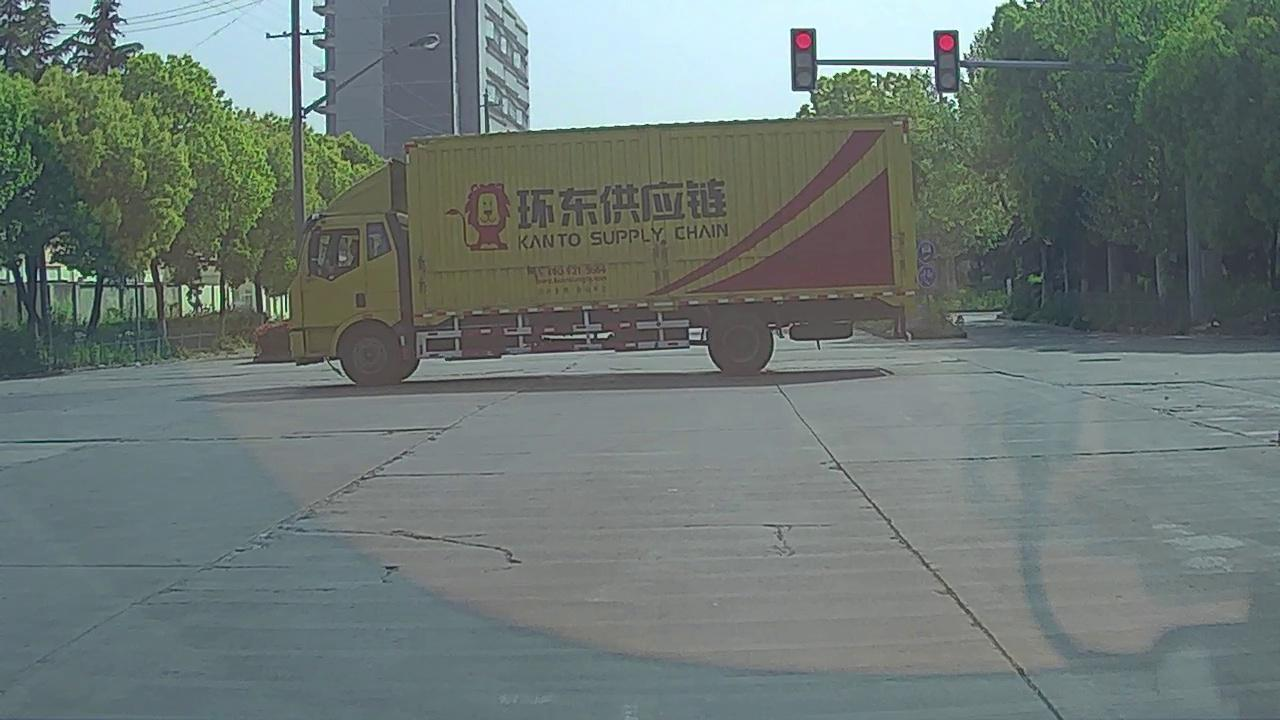traffic_light: (936, 30, 961, 92), (793, 30, 814, 90)
